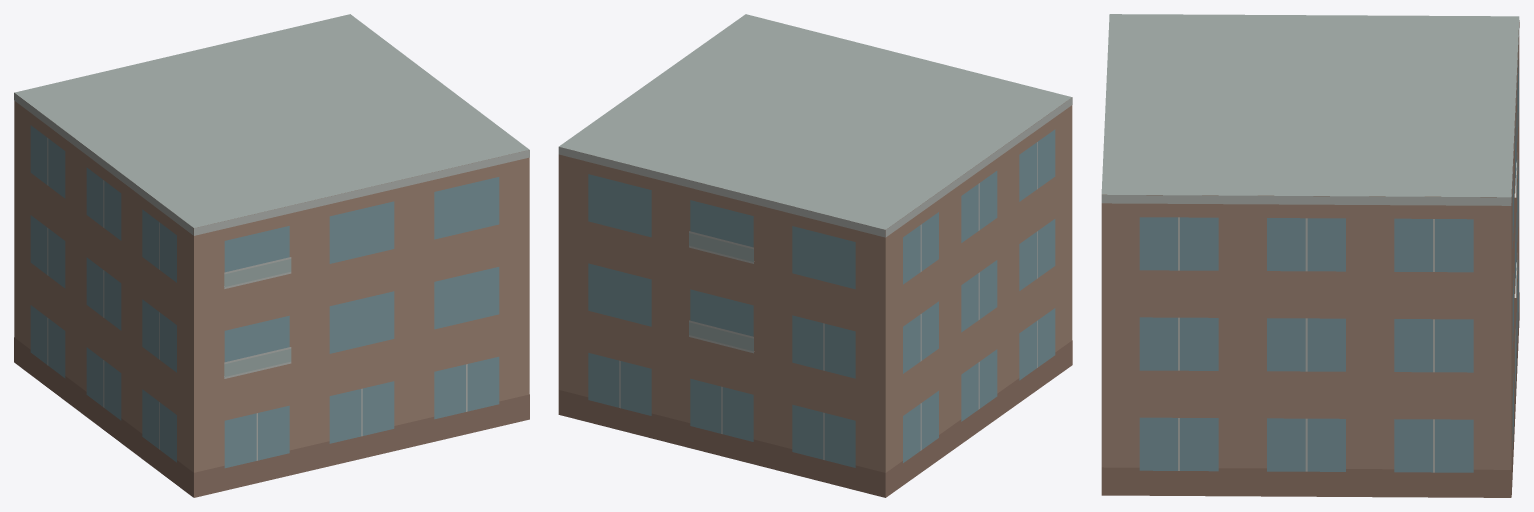
File: survey-upis-32492903.glb
The picture shows the model from 3 angles, left to right: view 1: azimuth 30°, elevation 25°; view 2: azimuth 150°, elevation 25°; view 3: azimuth 270°, elevation 25°; orthographic projection. The views are drawn at different scales.
Parts seen in each view (by area): view 1: survey-upis-32492903.tmp; view 2: survey-upis-32492903.tmp; view 3: survey-upis-32492903.tmp.
Part boxes in pixels (bbox=[...]): survey-upis-32492903.tmp: bbox=[14, 14, 529, 497]; survey-upis-32492903.tmp: bbox=[558, 14, 1072, 497]; survey-upis-32492903.tmp: bbox=[1101, 14, 1519, 497].
Size of the model in its own units: 11.05 by 8.45 by 10.66.
